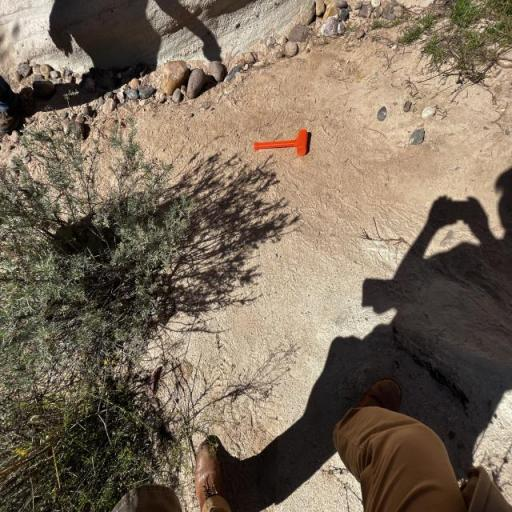mallet: (252, 128, 308, 158)
